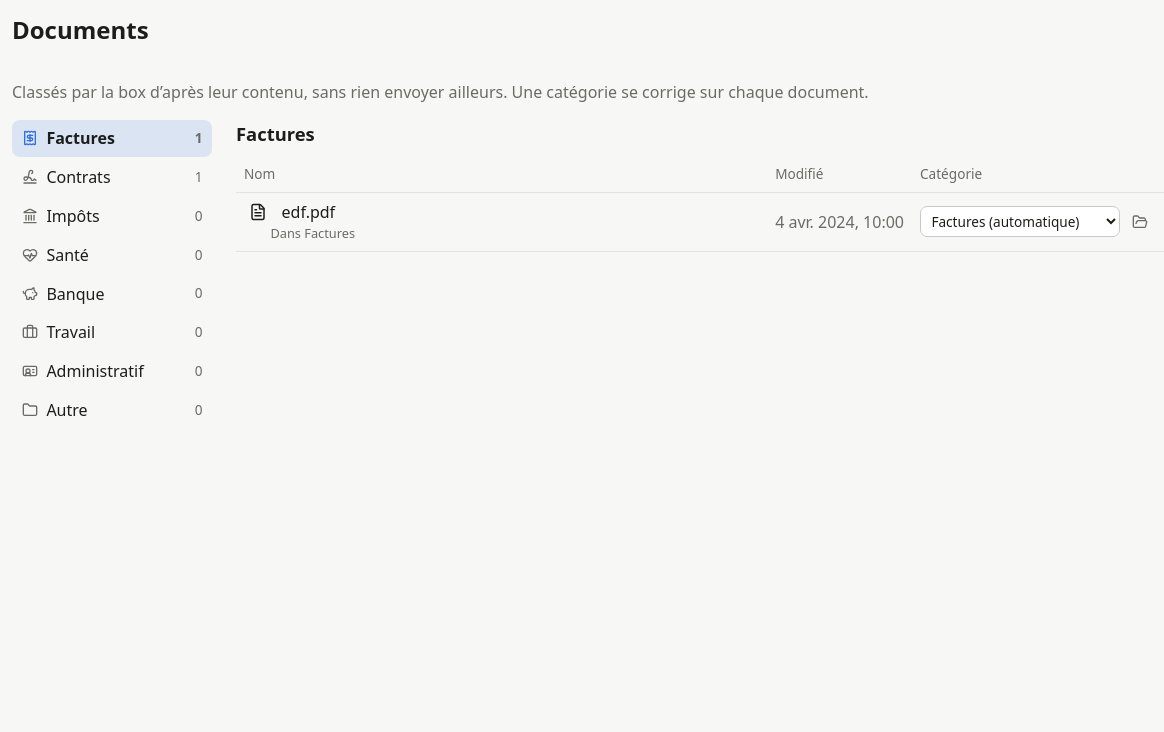
Test case: Documents › stays on the first category it picked when corrections empty it
Select "Contrats" in the dropdown named "Catégorie de edf.pdf" at (1020, 222), box [920, 206, 1120, 237]
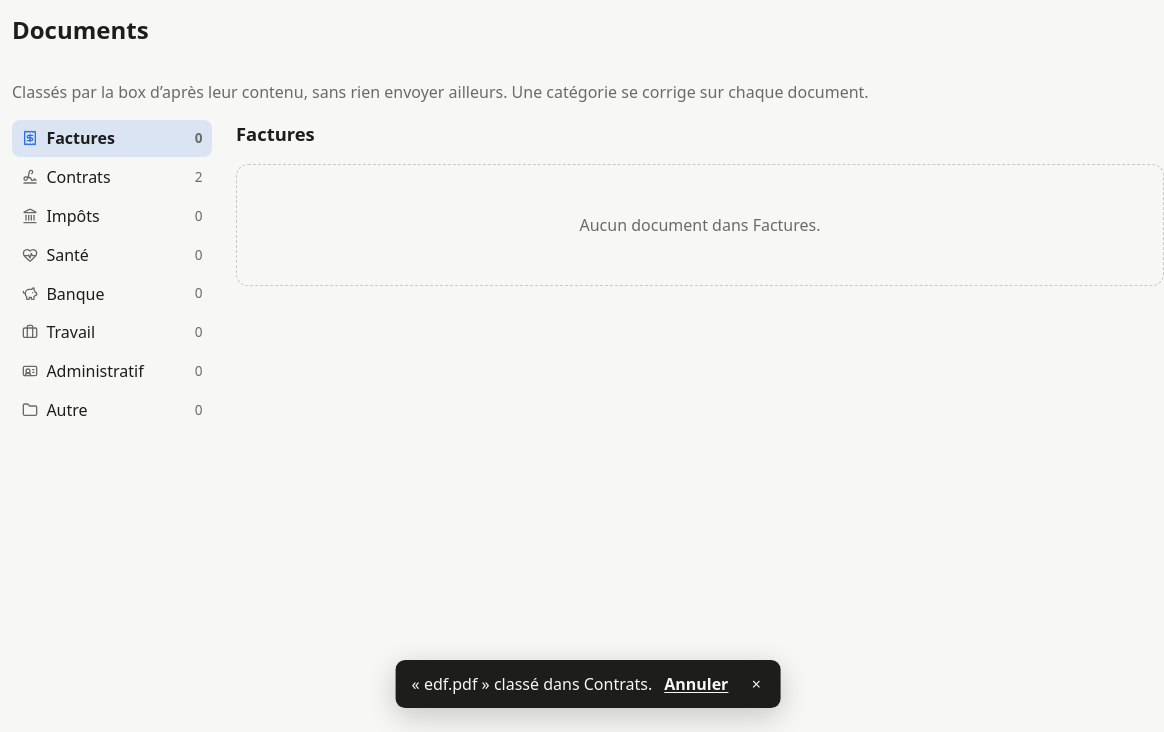
Expected: the heading "Factures" is shown, [236, 121, 315, 146]
Result: the text "Aucun document dans Factures." is shown at [236, 164, 1163, 286]
